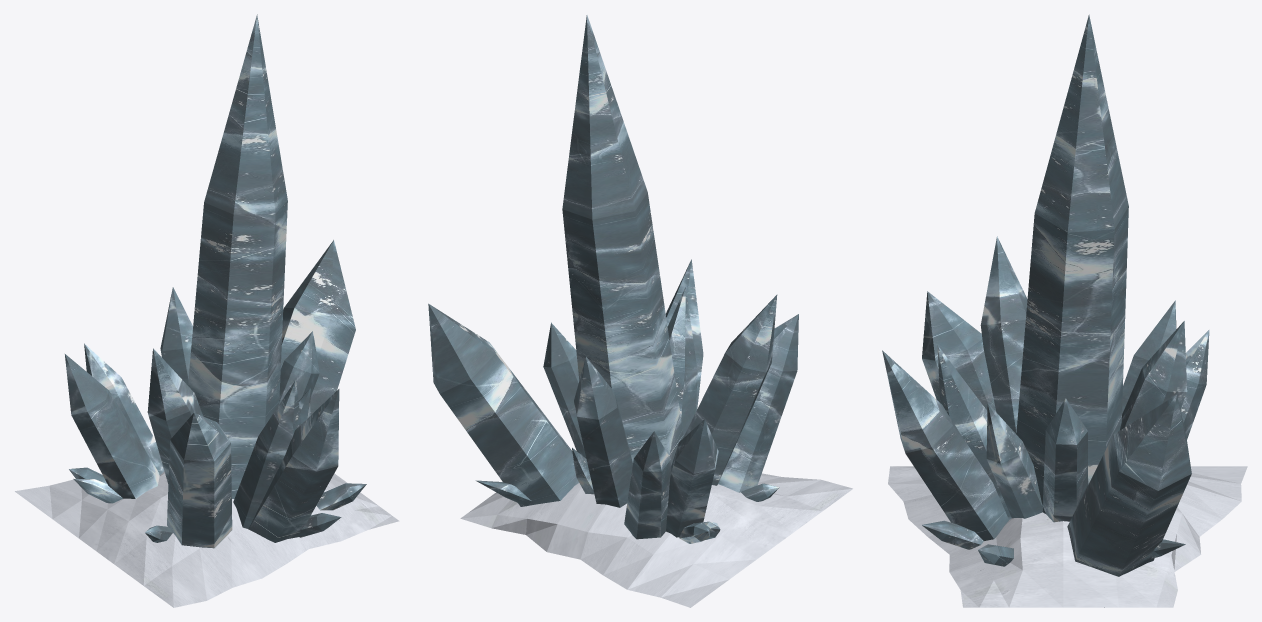
File: kit_rime_spike_p.glb
3 renders of one model, left to right at view 1: azimuth 30°, elevation 25°; view 2: azimuth 150°, elevation 25°; view 3: azimuth 270°, elevation 25°, orthographic. The views are drawn at different scales.
Visible parts, largest first — view 1: kit_rime_spike_p; view 2: kit_rime_spike_p; view 3: kit_rime_spike_p.
Boxes of the visible parts, x1=… form: kit_rime_spike_p: x1=15, y1=14, x2=399, y2=607; kit_rime_spike_p: x1=428, y1=15, x2=852, y2=607; kit_rime_spike_p: x1=882, y1=14, x2=1247, y2=607.
Bounding box in the file's own units: 1.13 × 1.89 × 1.09.
Materials: 1 (1 with a texture image).
